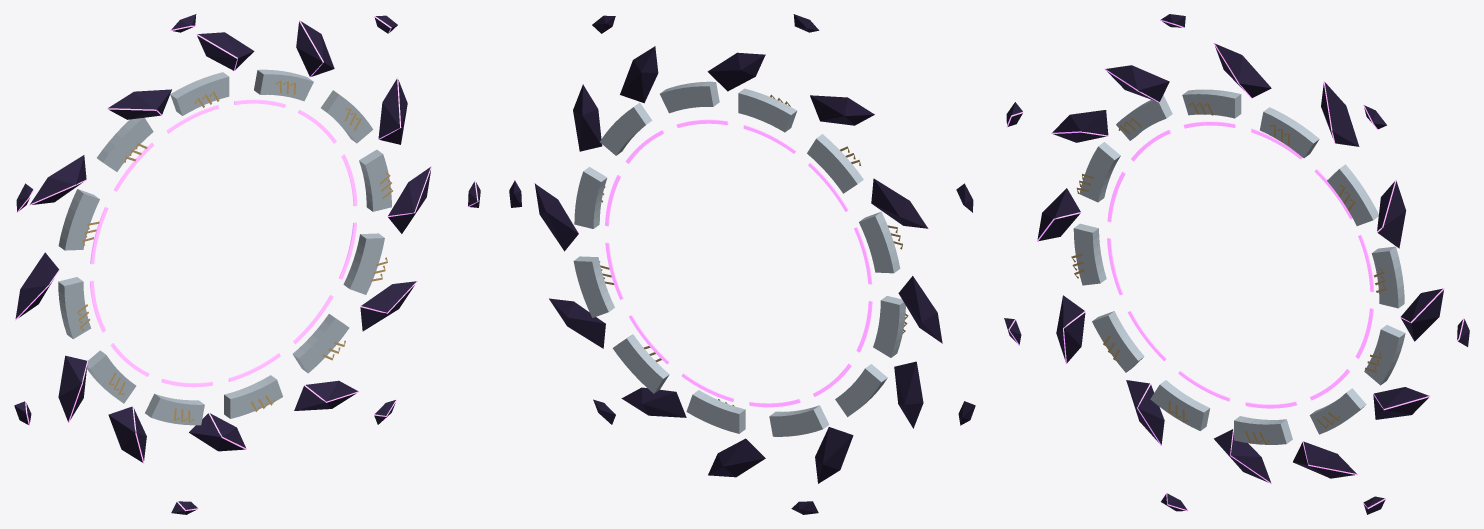
The model's file is blink-aperture.glb.
The picture shows the model from 3 angles, left to right: view 1: azimuth 30°, elevation 25°; view 2: azimuth 150°, elevation 25°; view 3: azimuth 330°, elevation 25°; orthographic projection.
Visible parts, largest first — view 1: blink-aperture_obsidian, blink-aperture_silver, blink-aperture_energy, blink-aperture_gold; view 2: blink-aperture_obsidian, blink-aperture_silver, blink-aperture_energy; view 3: blink-aperture_obsidian, blink-aperture_silver, blink-aperture_energy, blink-aperture_gold.
Boxes of the visible parts, x1,y1,x2,y2 form: blink-aperture_obsidian: (14,14,480,514); blink-aperture_silver: (58,69,391,425); blink-aperture_energy: (15,16,478,511); blink-aperture_gold: (77,80,392,422); blink-aperture_obsidian: (509,14,975,514); blink-aperture_silver: (573,81,905,436); blink-aperture_energy: (514,16,973,509); blink-aperture_obsidian: (1004,14,1469,514); blink-aperture_silver: (1073,89,1405,444); blink-aperture_energy: (1006,19,1464,511); blink-aperture_gold: (1071,102,1386,444).
Size of the model in its own units: 3.43 by 3.5 by 0.34.
